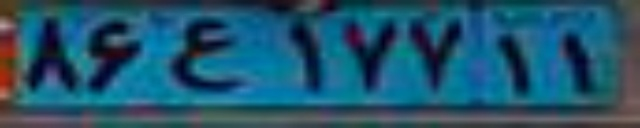1: (553, 32, 599, 93), (286, 21, 325, 89), (493, 33, 534, 93)
6: (82, 21, 145, 91)
7: (404, 18, 473, 92), (340, 19, 401, 91)
8: (25, 15, 78, 90)
ain: (167, 18, 249, 91)
